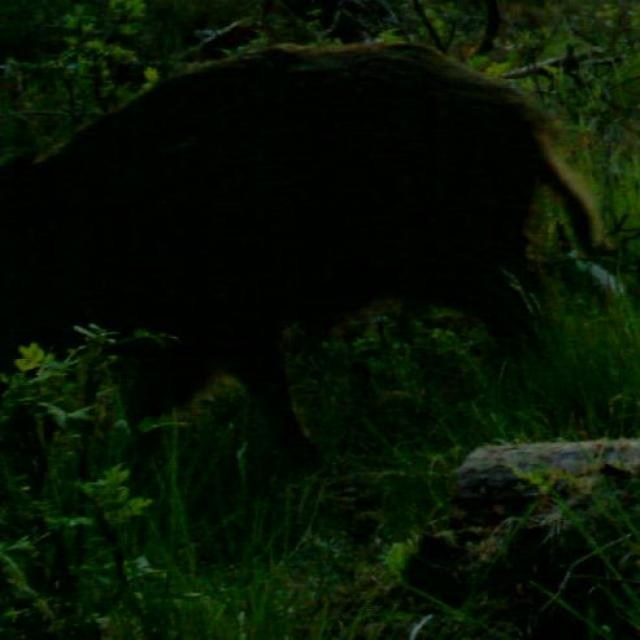pig: (0, 40, 590, 428)
